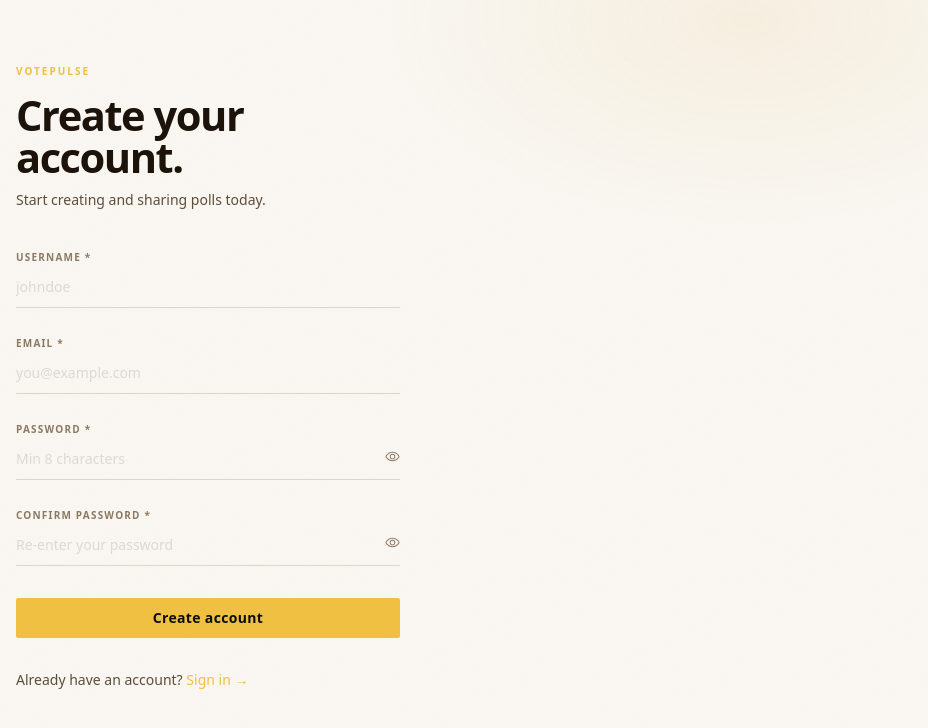
Test: Register Page › validates username min length
The width and height of the screenshot is (928, 728).
Type "ab" into the field with placeholder "johndoe". click: point(208, 291)
box: [16,273,400,308]
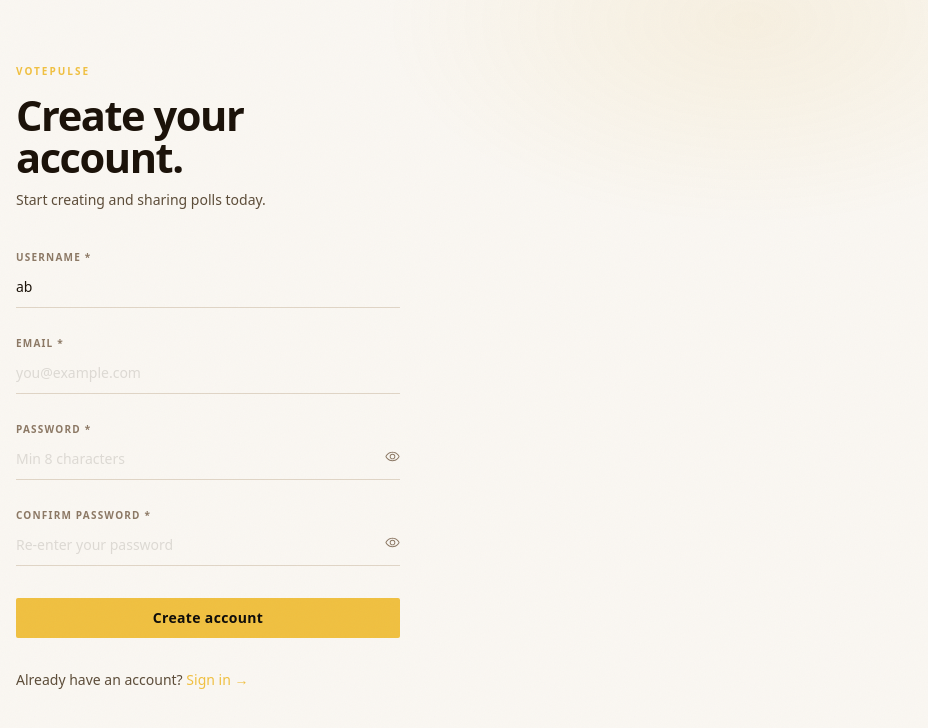
Type "a@b.com" into the field with placeholder "you@example.com". click: point(208, 377)
box: [16,359,400,394]
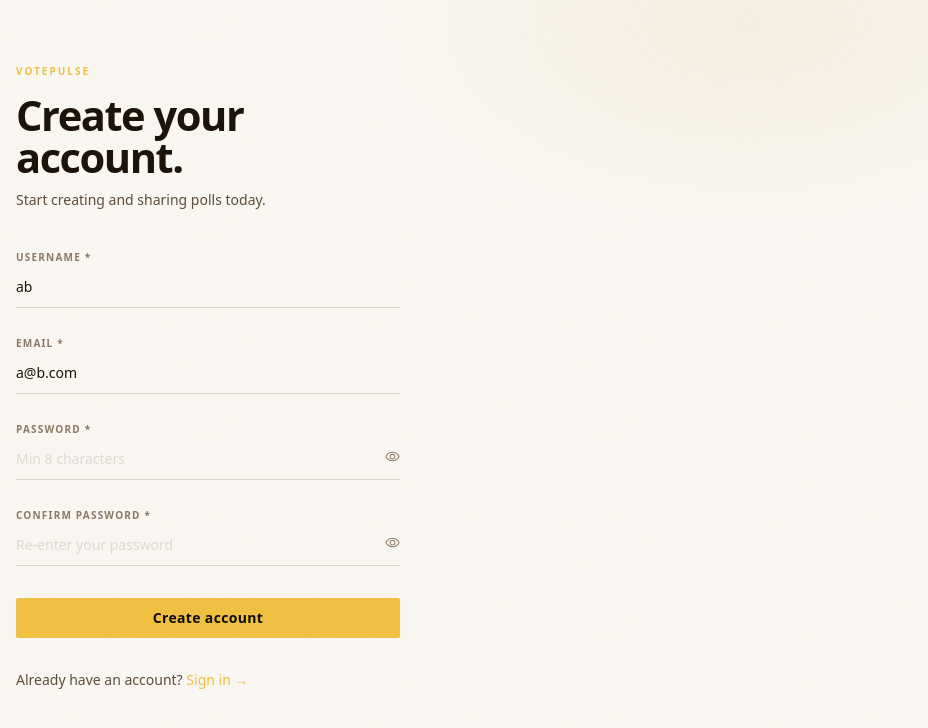
Type "password123" into the password field with placeholder "Min 8 characters". click: point(208, 463)
box: [16,445,400,480]
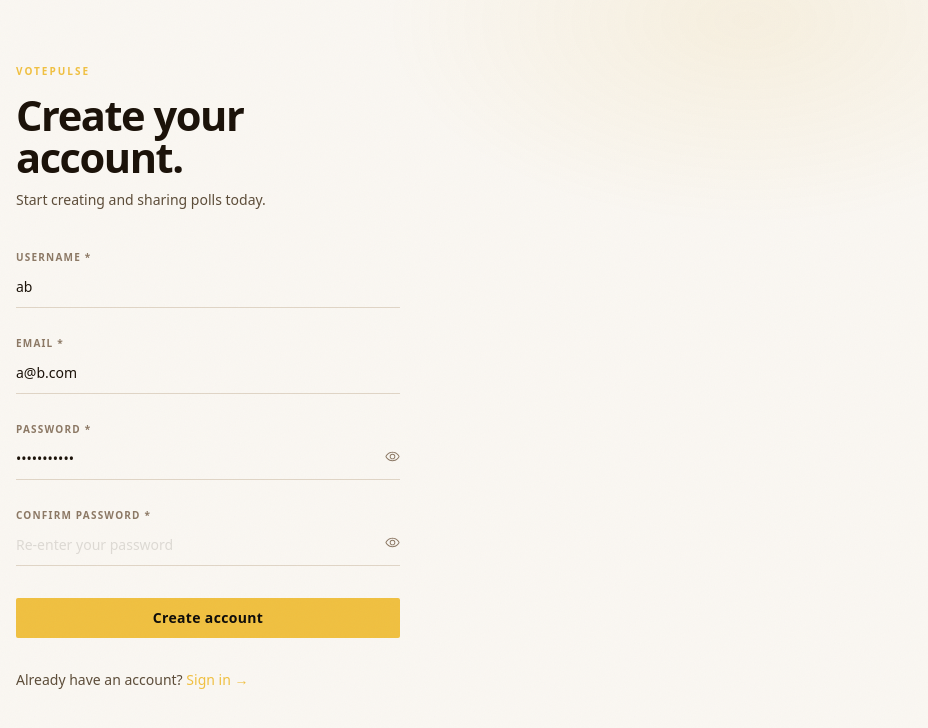
Type "password123" into the password field with placeholder "Re-enter your password". click: point(208, 549)
box: [16,531,400,566]
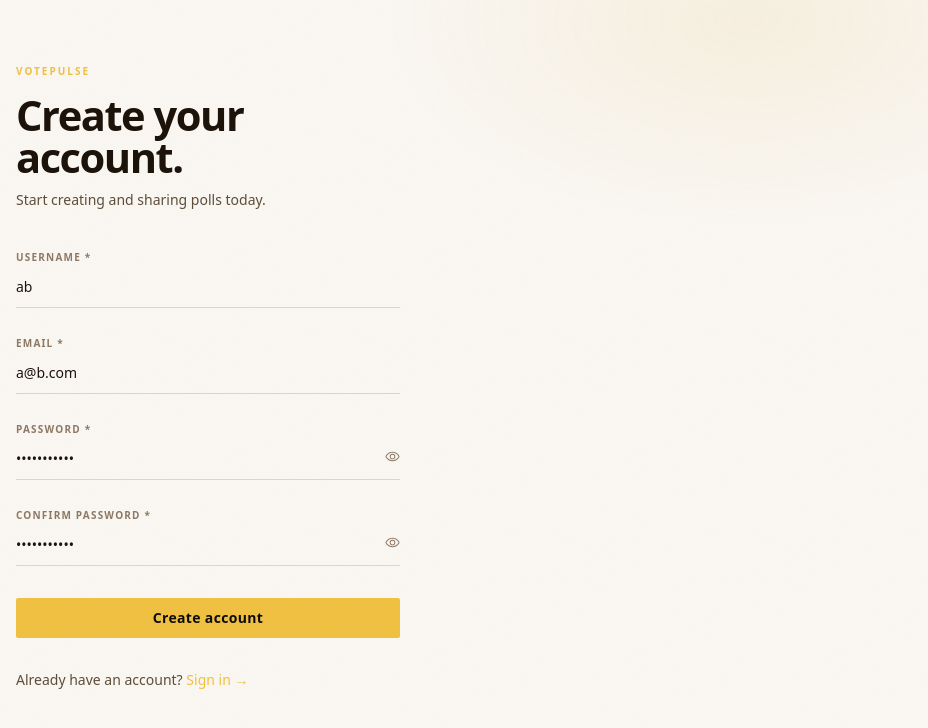
Click the button "Create account". click: point(208, 618)
box: [16,598,400,638]
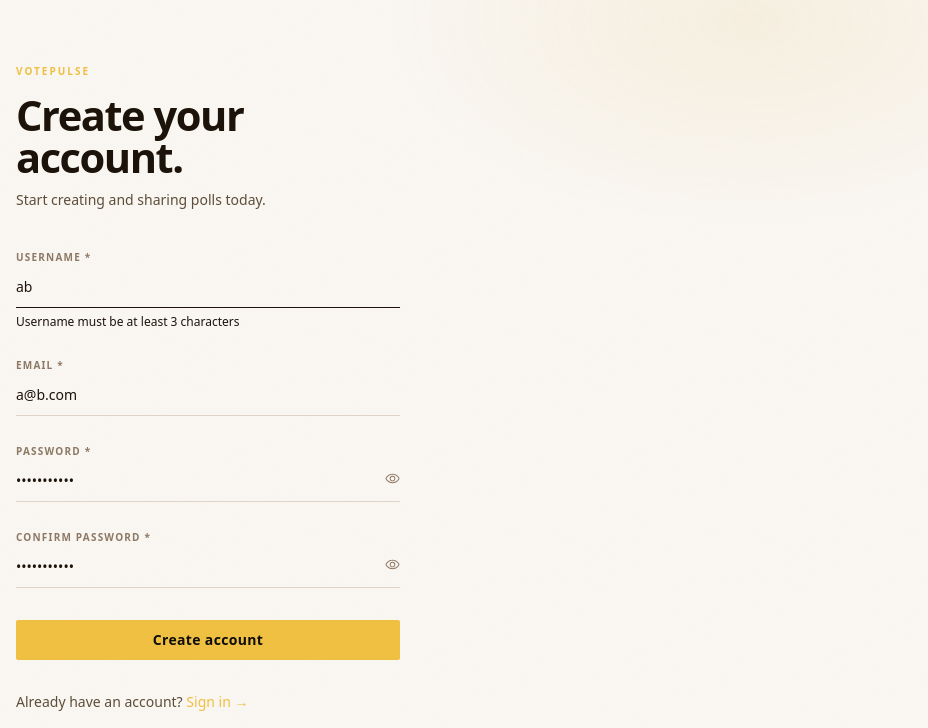
Check: the text "Username must be at least 3 characters" is shown, box [16,313,240,330]
